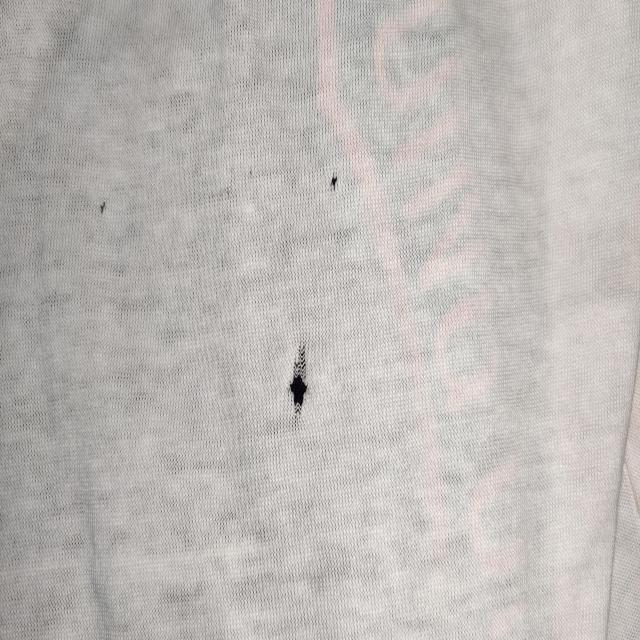Hole: (289, 340, 307, 417), (98, 197, 109, 222), (330, 170, 338, 192)
